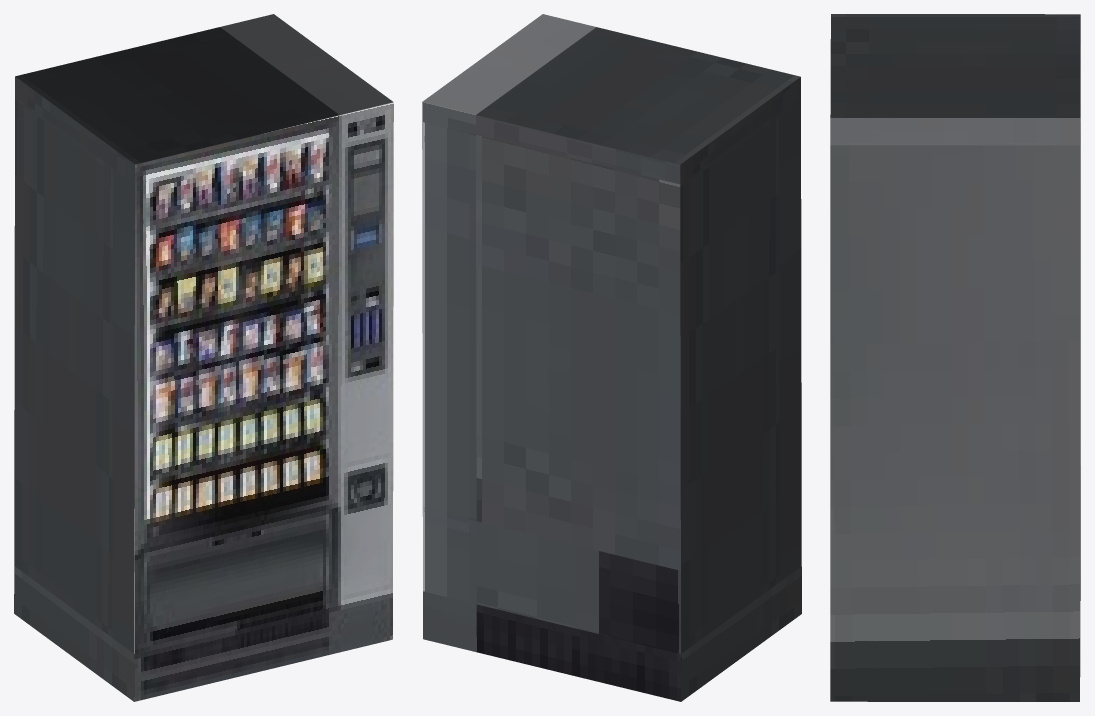
File: vending_machine_psx.glb
3 renders of one model, left to right at view 1: azimuth 30°, elevation 25°; view 2: azimuth 150°, elevation 25°; view 3: azimuth 270°, elevation 25°, orthographic. The views are drawn at different scales.
Visible parts, largest first — view 1: vending_psx; view 2: vending_psx; view 3: vending_psx.
Part boxes in pixels (<box>): vending_psx: <box>14,14,393,701</box>; vending_psx: <box>422,14,801,701</box>; vending_psx: <box>830,14,1080,701</box>.
Bounding box in the file's own units: 1.01 × 2 × 0.8127.
Materials: 1 (1 with a texture image).
